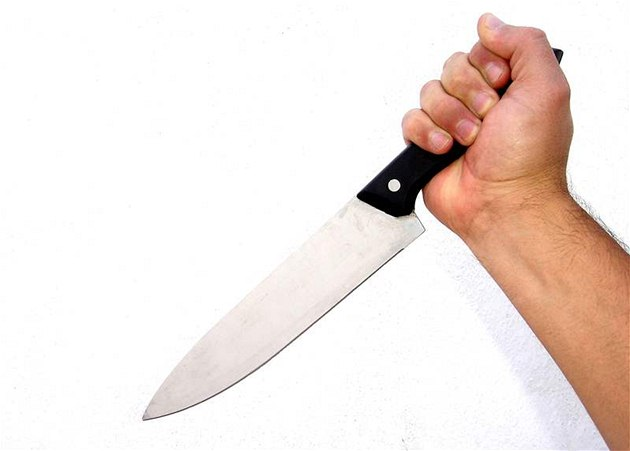knife: (131, 88, 502, 432)
